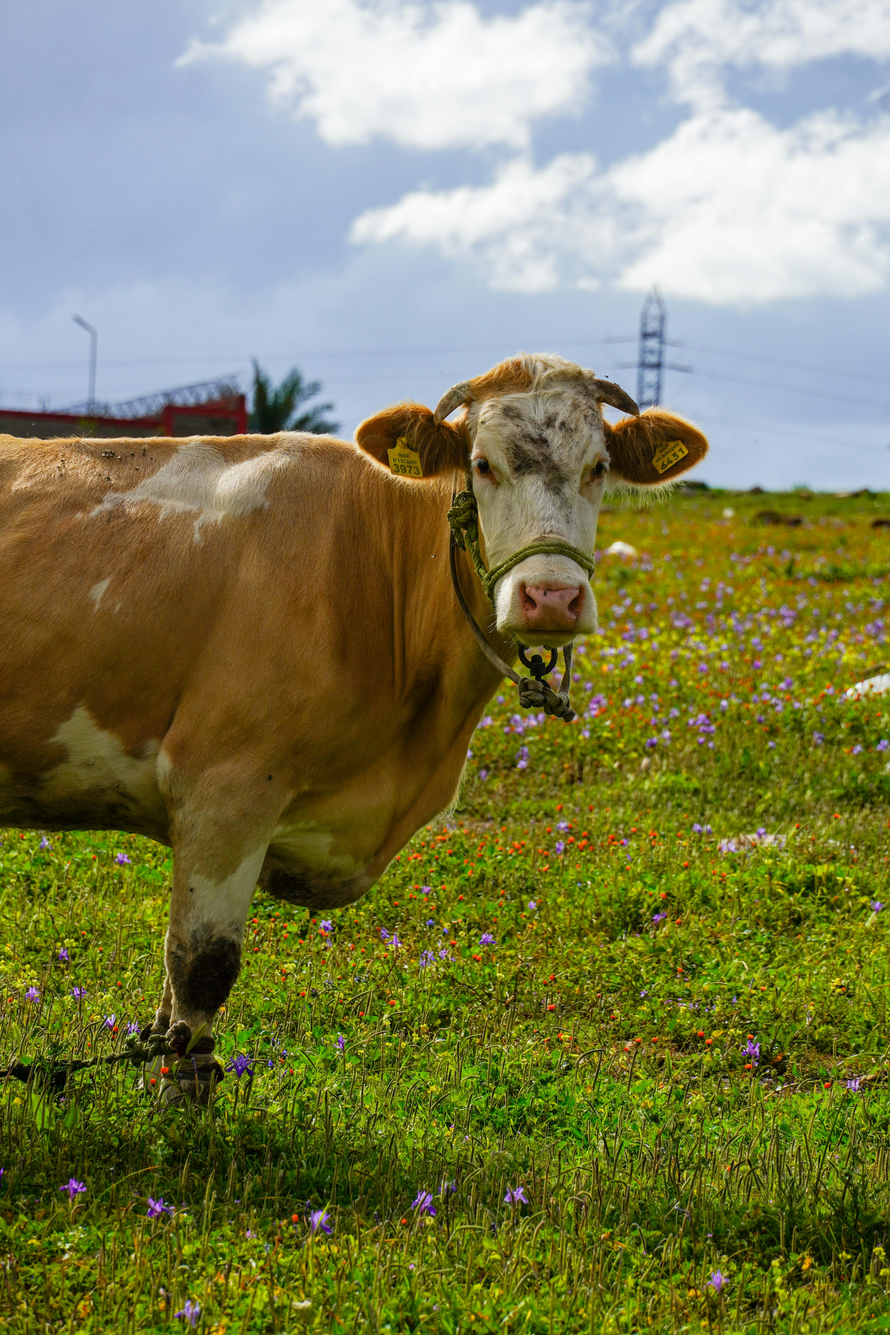bovino: (0, 357, 712, 1127)
